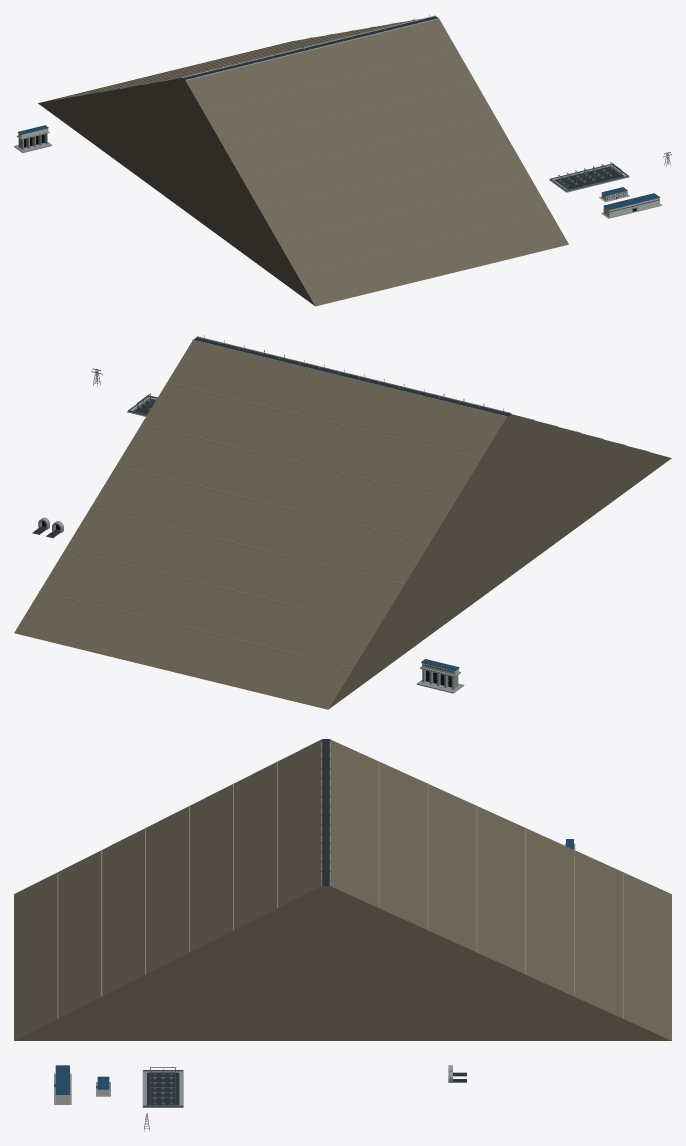
The model's file is sjk_concept_layout.glb.
3 views of the same model, one above another, from view 1: azimuth 30°, elevation 25°; view 2: azimuth 150°, elevation 25°; view 3: azimuth 270°, elevation 25° (orthographic). The views are drawn at different scales.
Visible parts, largest first — view 1: sjk_concept_dam, sjk_concept_switchyard, sjk_concept_gis_hall, sjk_concept_intake; view 2: sjk_concept_dam, sjk_concept_intake; view 3: sjk_concept_dam, sjk_concept_switchyard, sjk_concept_gis_hall.
Boxes of the visible parts, bbox=[...] form: sjk_concept_dam: bbox=[38, 14, 568, 306]; sjk_concept_switchyard: bbox=[549, 162, 629, 192]; sjk_concept_gis_hall: bbox=[601, 193, 662, 218]; sjk_concept_intake: bbox=[14, 125, 52, 152]; sjk_concept_dam: bbox=[14, 335, 671, 709]; sjk_concept_intake: bbox=[416, 659, 464, 693]; sjk_concept_dam: bbox=[14, 738, 671, 1040]; sjk_concept_switchyard: bbox=[142, 1067, 183, 1107]; sjk_concept_gis_hall: bbox=[54, 1065, 71, 1104].
Size of the model in its own units: 1198 by 323 by 1213.
